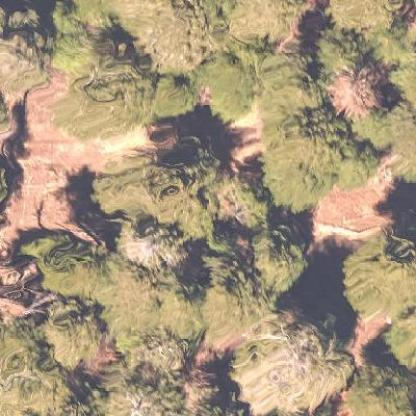tree-top: (254, 95, 371, 210), (232, 307, 351, 409), (109, 321, 206, 415), (334, 225, 415, 316), (104, 201, 191, 282), (33, 289, 119, 370), (200, 36, 274, 119), (244, 219, 309, 294), (30, 225, 98, 291), (321, 55, 393, 116), (343, 356, 415, 415), (140, 61, 205, 122), (311, 19, 370, 77)
